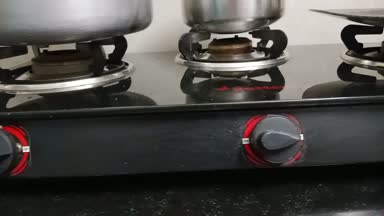flame_gas_off: (180, 21, 315, 170)
